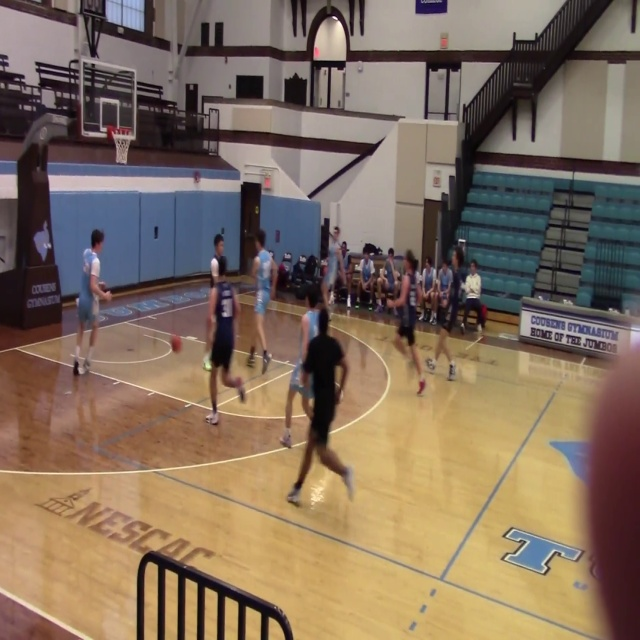Basketball: (171, 335, 182, 352), (425, 357, 436, 372)
